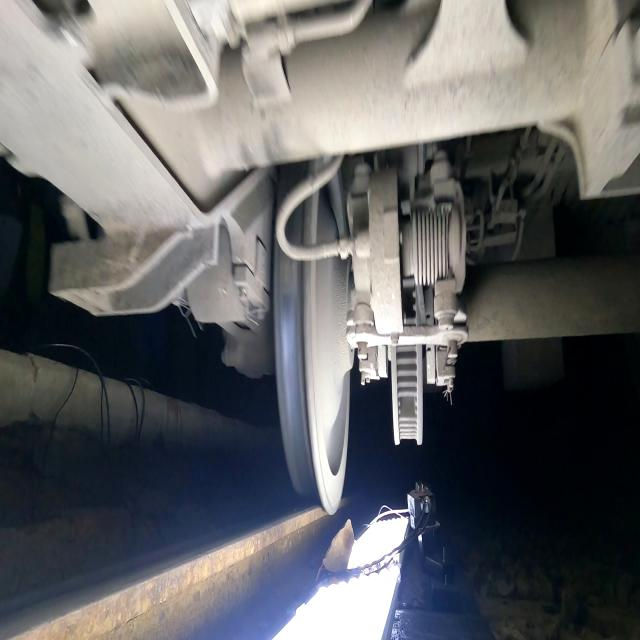Shelling: (280, 251, 298, 293)
Wheel: (274, 245, 354, 514)
